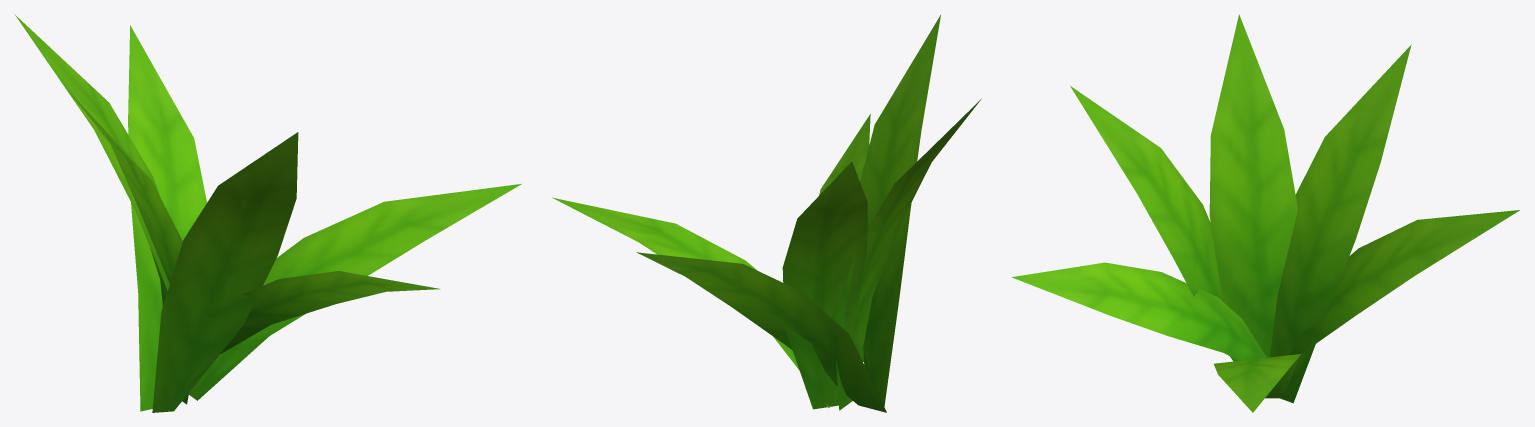
Rendered from Grass_01.FBX.
3 renders of one model, left to right at view 1: azimuth 30°, elevation 25°; view 2: azimuth 150°, elevation 25°; view 3: azimuth 270°, elevation 25°, orthographic. The views are drawn at different scales.
Visible parts, largest first — view 1: Plane029; view 2: Plane029; view 3: Plane029.
Part boxes in pixels (box(x1,y1,x2,y2)): Plane029: box(14, 14, 521, 412); Plane029: box(552, 15, 981, 412); Plane029: box(1012, 14, 1519, 412).
Size of the model in its own units: 2.25 by 1.65 by 2.37.
